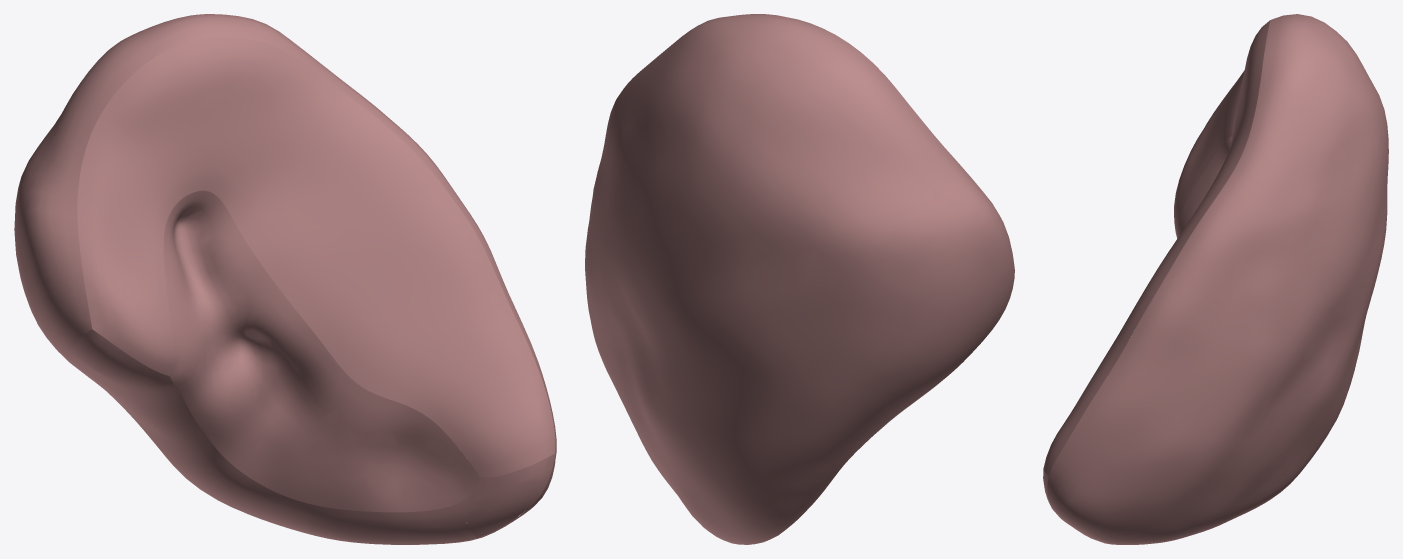
The model's file is vh_f_spleen-80.glb.
3 renders of one model, left to right at view 1: azimuth 30°, elevation 25°; view 2: azimuth 150°, elevation 25°; view 3: azimuth 270°, elevation 25°, orthographic. The views are drawn at different scales.
Parts seen in each view (by area): view 1: VH_F_gastric_surface_of_spleen, VH_F_hilum_of_spleen, VH_F_diaphragmatic_surface_of_spleen, VH_F_renal_surface_of_spleen, VH_F_colic_surface_of_spleen; view 2: VH_F_diaphragmatic_surface_of_spleen; view 3: VH_F_diaphragmatic_surface_of_spleen, VH_F_gastric_surface_of_spleen, VH_F_hilum_of_spleen.
Boxes of the visible parts, <box> form: VH_F_gastric_surface_of_spleen: <box>77,36,555,477</box>; VH_F_hilum_of_spleen: <box>163,190,479,512</box>; VH_F_diaphragmatic_surface_of_spleen: <box>14,14,556,544</box>; VH_F_renal_surface_of_spleen: <box>67,329,477,544</box>; VH_F_colic_surface_of_spleen: <box>458,453,555,537</box>; VH_F_diaphragmatic_surface_of_spleen: <box>585,14,1014,544</box>; VH_F_diaphragmatic_surface_of_spleen: <box>1047,14,1388,544</box>; VH_F_gastric_surface_of_spleen: <box>1043,20,1269,475</box>; VH_F_hilum_of_spleen: <box>1177,136,1232,237</box>.
Bounding box in the file's own units: 0.0896 × 0.1023 × 0.0709.
